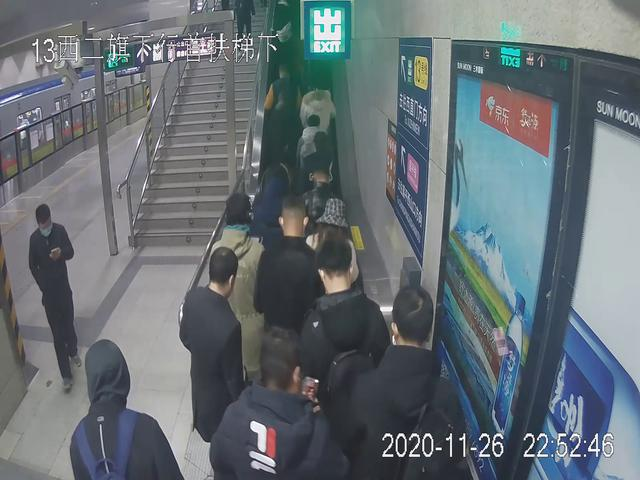person: (361, 285, 469, 480), (301, 241, 388, 473), (177, 242, 267, 464), (194, 192, 274, 419), (66, 334, 180, 480), (23, 200, 91, 393)
